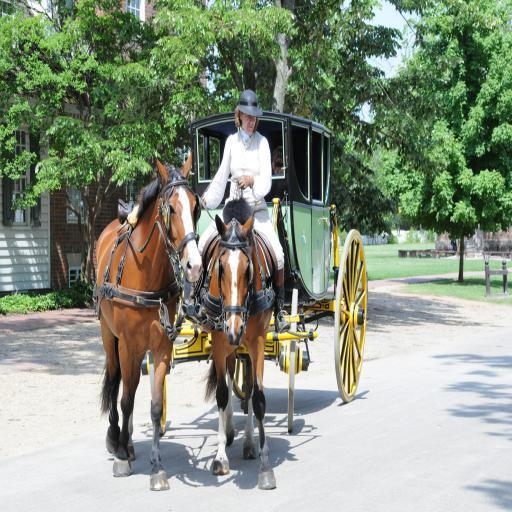horse: (94, 152, 204, 494), (196, 210, 280, 492)
